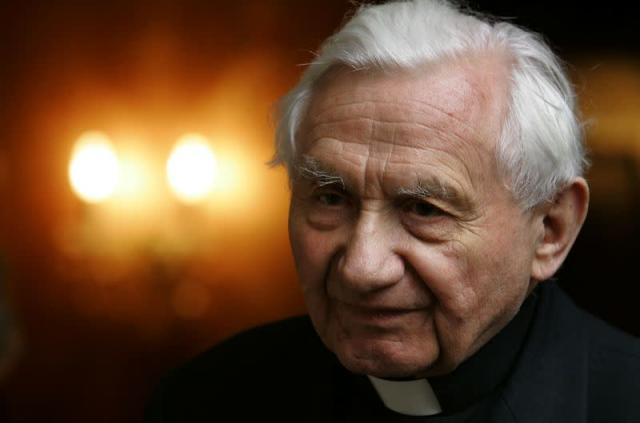crows_feet: (454, 206, 488, 236)
forehead: (366, 118, 410, 170), (432, 129, 476, 180), (313, 116, 355, 148)
frown_line: (356, 170, 388, 200)
gummy_smile: (402, 256, 438, 296), (319, 252, 337, 292)
sad_smile: (422, 308, 450, 356)
